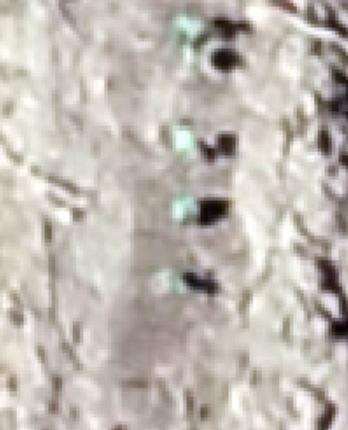cotton: (175, 16, 206, 44), (173, 195, 195, 217), (176, 128, 195, 148), (187, 49, 202, 72), (175, 276, 186, 294)
